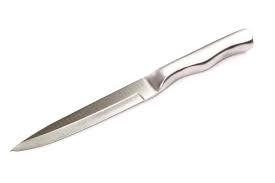Knife: (9, 26, 253, 152)
